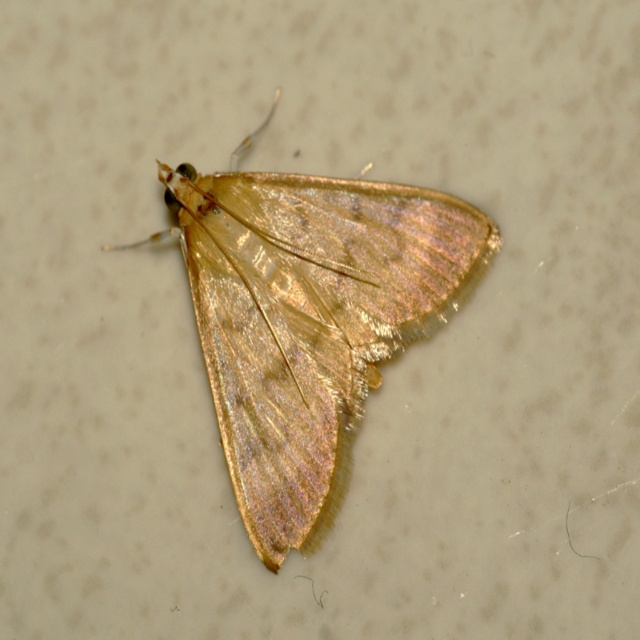Butterfly: (103, 98, 514, 564)
